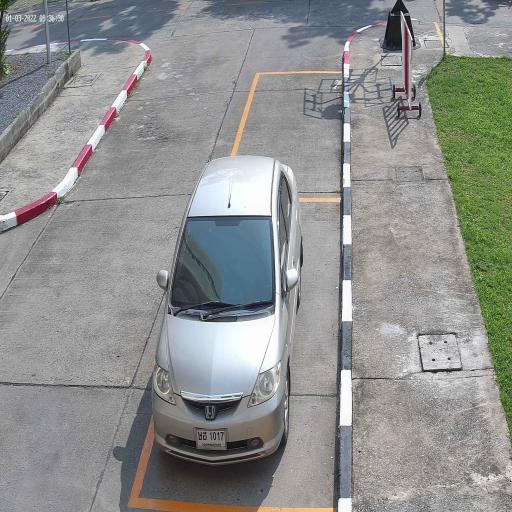car: (150, 155, 305, 468)
